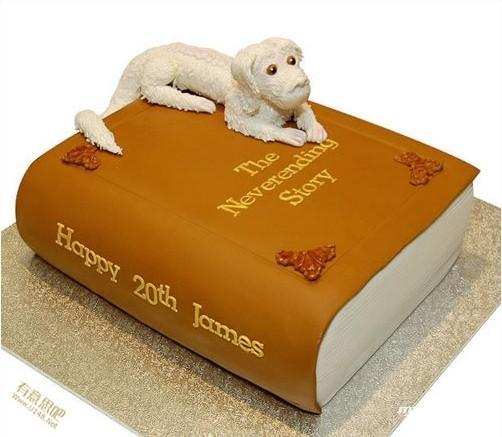book: (12, 48, 493, 425)
